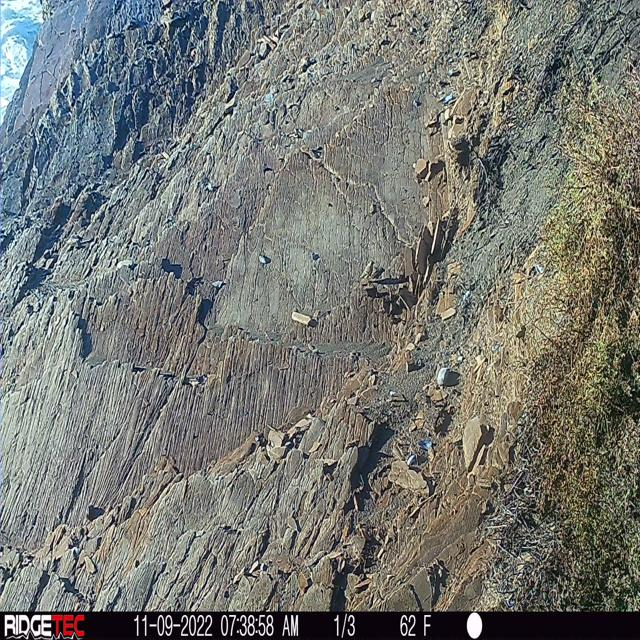bird: (363, 260, 377, 283)
